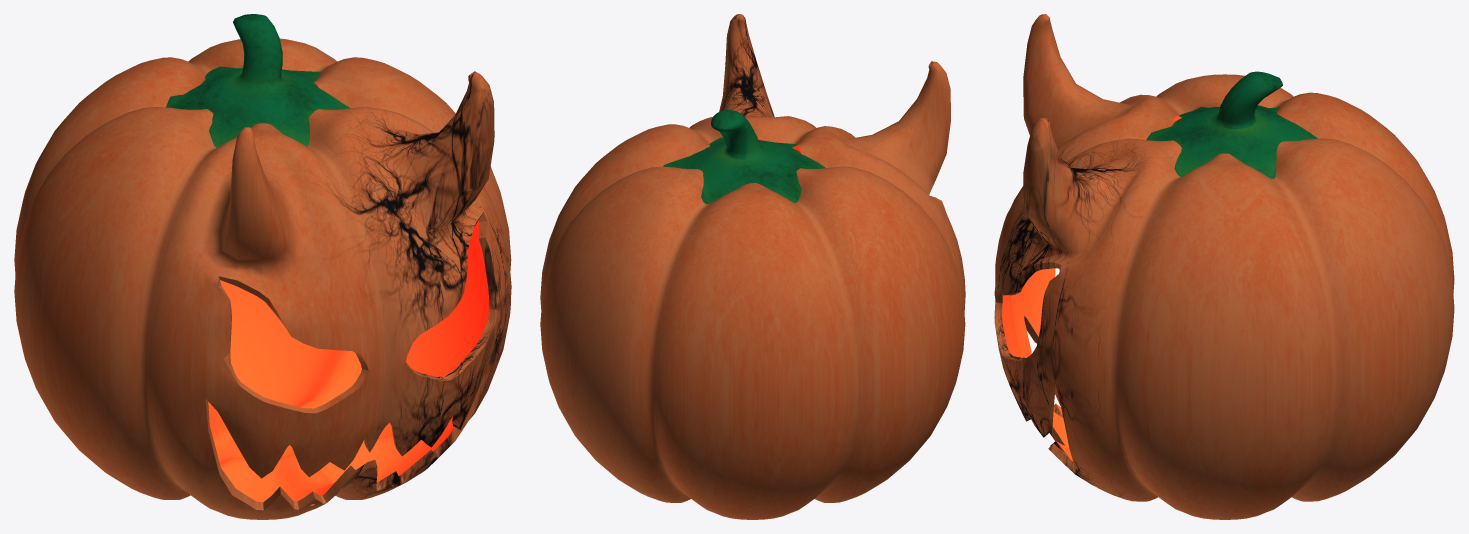
Rendered from demon_pumpkin.glb.
3 renders of one model, left to right at view 1: azimuth 30°, elevation 25°; view 2: azimuth 150°, elevation 25°; view 3: azimuth 270°, elevation 25°, orthographic. The views are drawn at different scales.
Visible parts, largest first — view 1: calabaza; view 2: calabaza; view 3: calabaza.
Part boxes in pixels (box(x1,y1,x2,y2)): calabaza: box(14, 14, 511, 519); calabaza: box(540, 14, 965, 519); calabaza: box(994, 14, 1454, 519).
Bounding box in the file's own units: 93.73 × 89.16 × 91.77.
3 materials, 3 textured.
